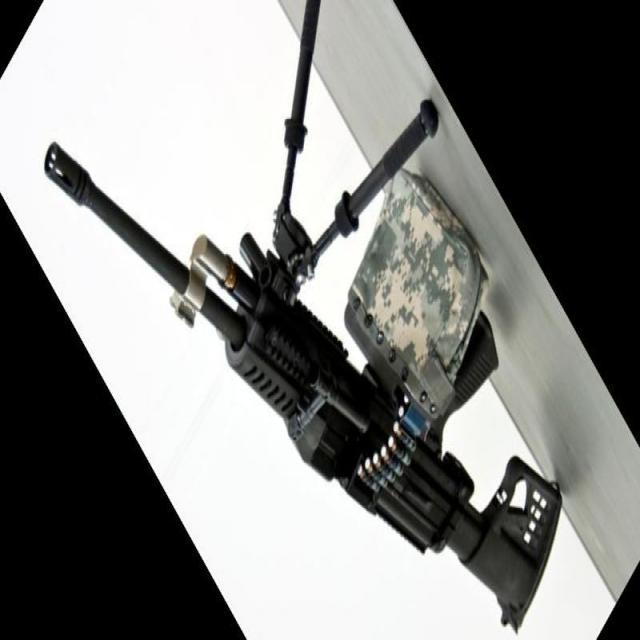weapon: (42, 0, 563, 633)
